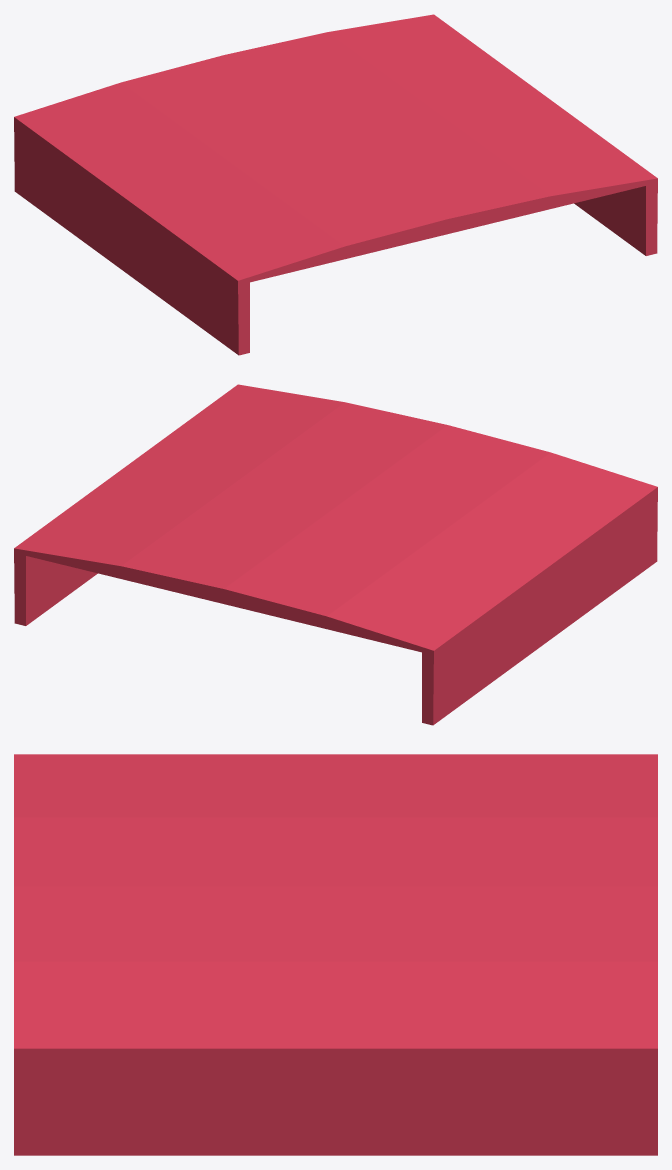
The model's file is Itr_Bed_Double_Blanket_06.FBX.
The picture shows the model from 3 angles, top to bottom: view 1: azimuth 30°, elevation 25°; view 2: azimuth 150°, elevation 25°; view 3: azimuth 270°, elevation 25°; orthographic projection. The views are drawn at different scales.
Visible parts, largest first — view 1: Itr_Bed_Double_Blanket_06; view 2: Itr_Bed_Double_Blanket_06; view 3: Itr_Bed_Double_Blanket_06.
Part boxes in pixels (x1=…): Itr_Bed_Double_Blanket_06: x1=14, y1=14, x2=657, y2=355; Itr_Bed_Double_Blanket_06: x1=14, y1=384, x2=657, y2=725; Itr_Bed_Double_Blanket_06: x1=14, y1=754, x2=657, y2=1155.
Bounding box in the file's own units: 70.21 × 13.65 × 64.86.
